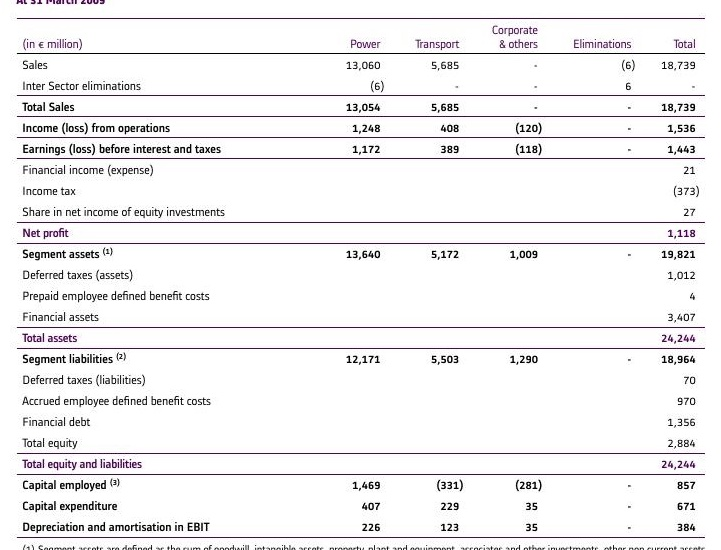table: (0, 0, 721, 550)
